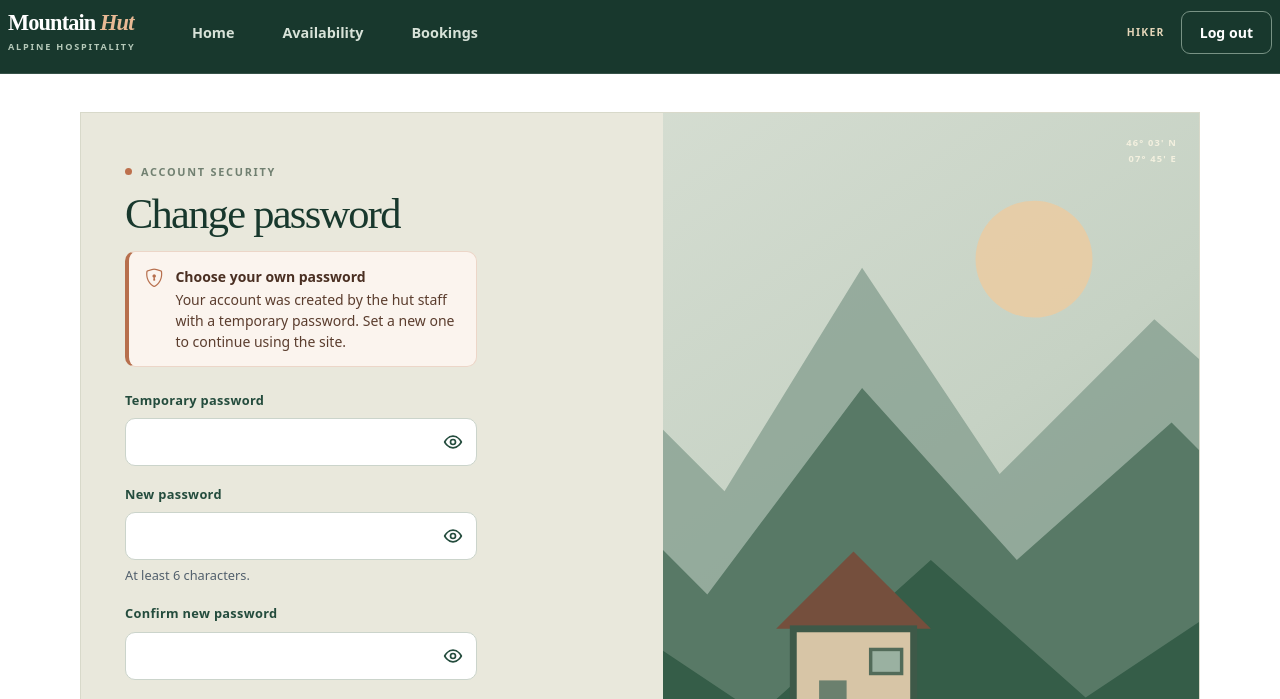
forced password change › change password validates the confirmation
Type "oldpass" into the password field labelled "Temporary password" at (301, 442), box [125,418,477,466]
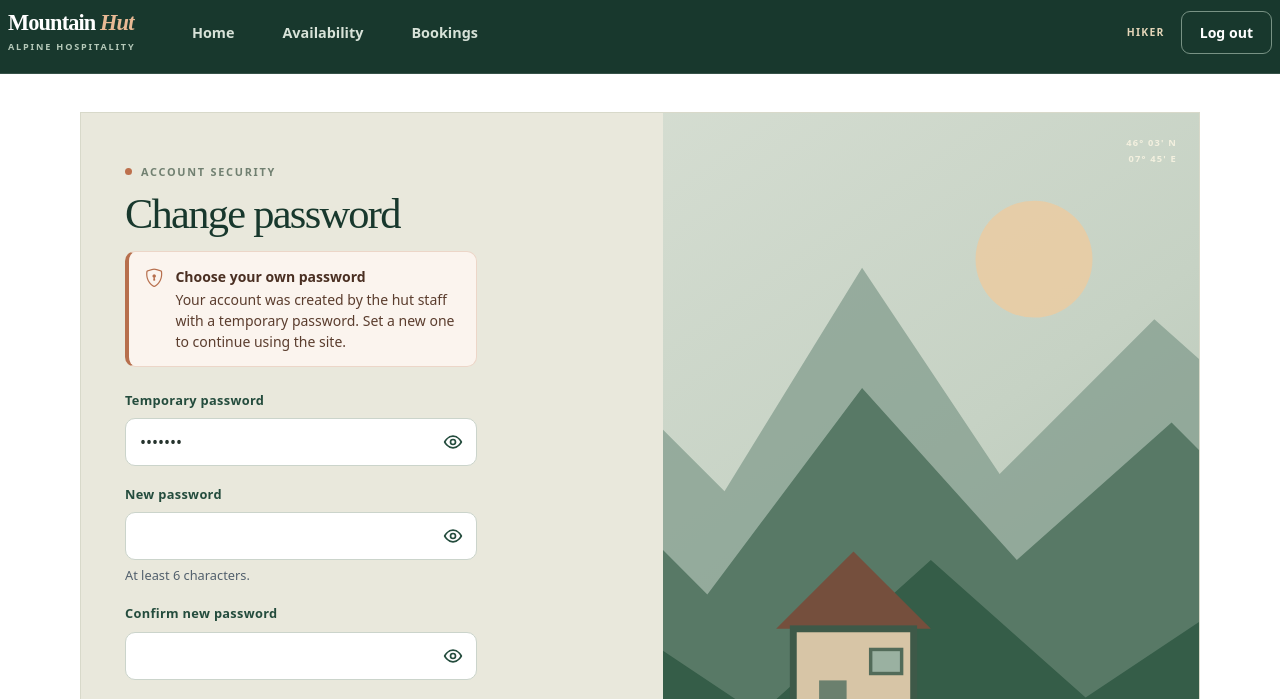
Type "newpass1" into the password field labelled "New password" at (301, 536), box [125,512,477,560]
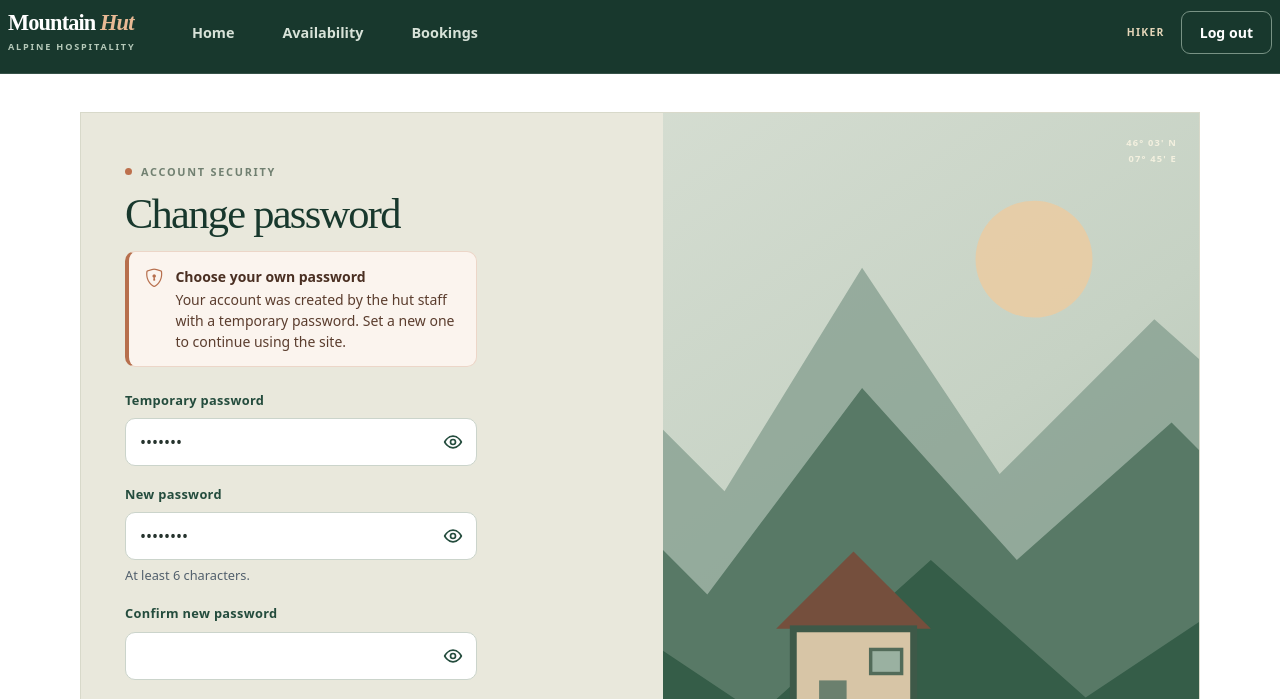
Type "different" into the password field labelled "Confirm new password" at (301, 656), box [125,632,477,680]
(page scrolled)
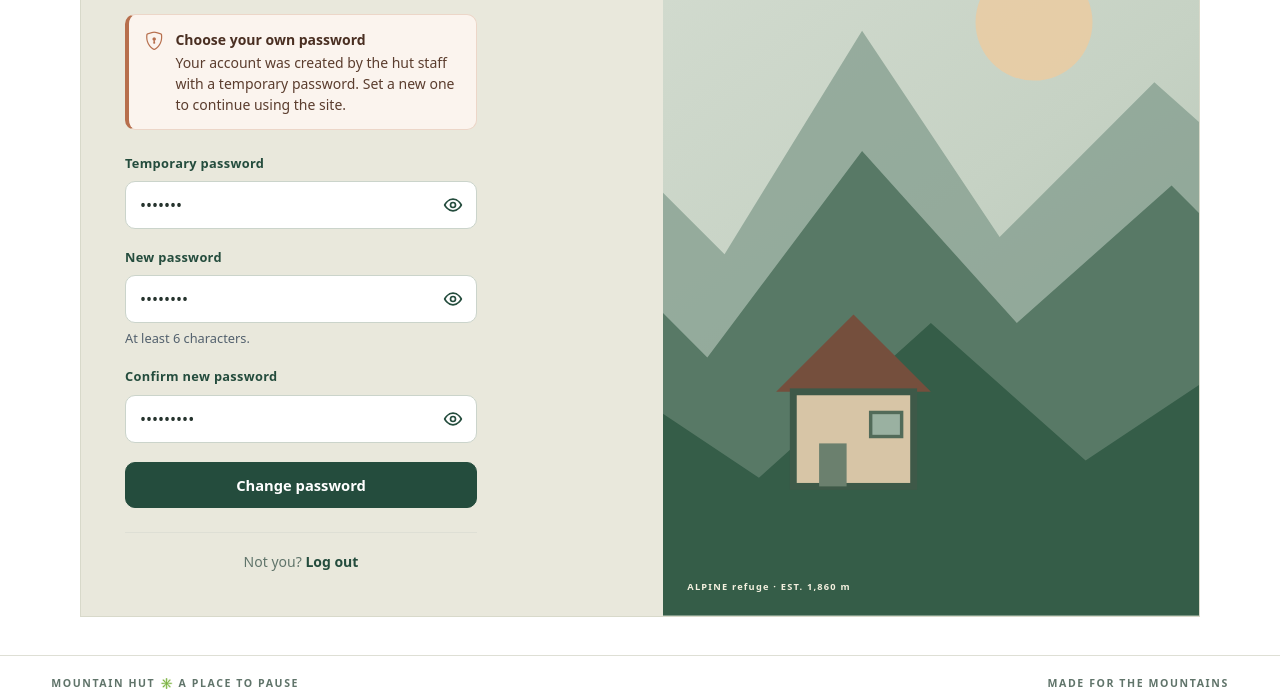
Click the button "Change password" at (301, 485), box [125,462,477,508]
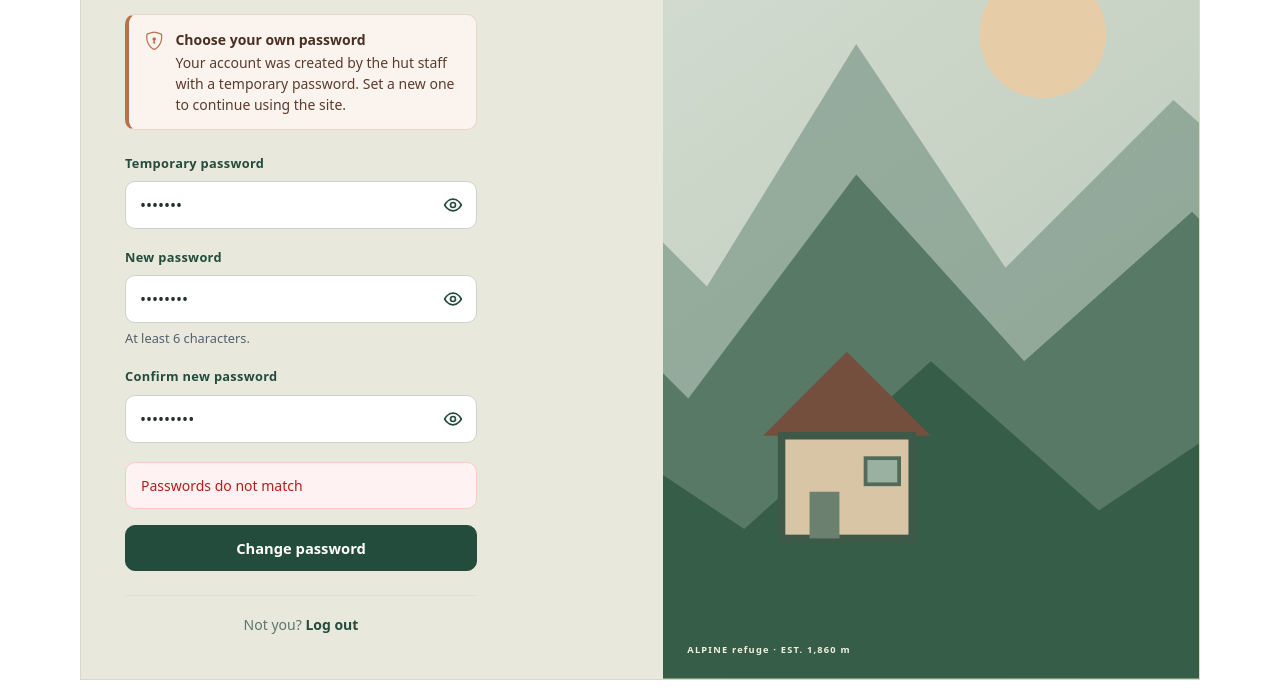
Expected: the message "Passwords do not match" is shown, [125,462,477,509]
